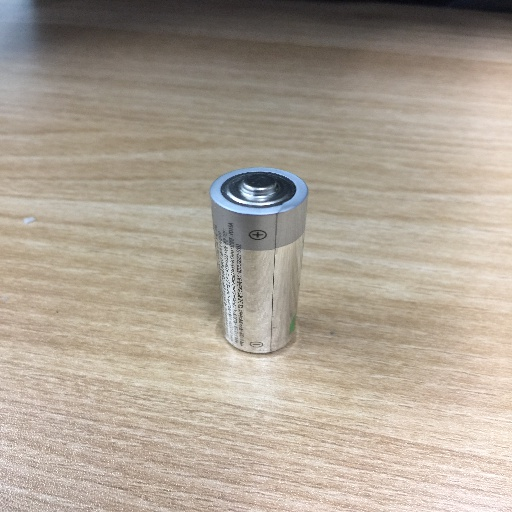Battery_0: (201, 150, 328, 373)
